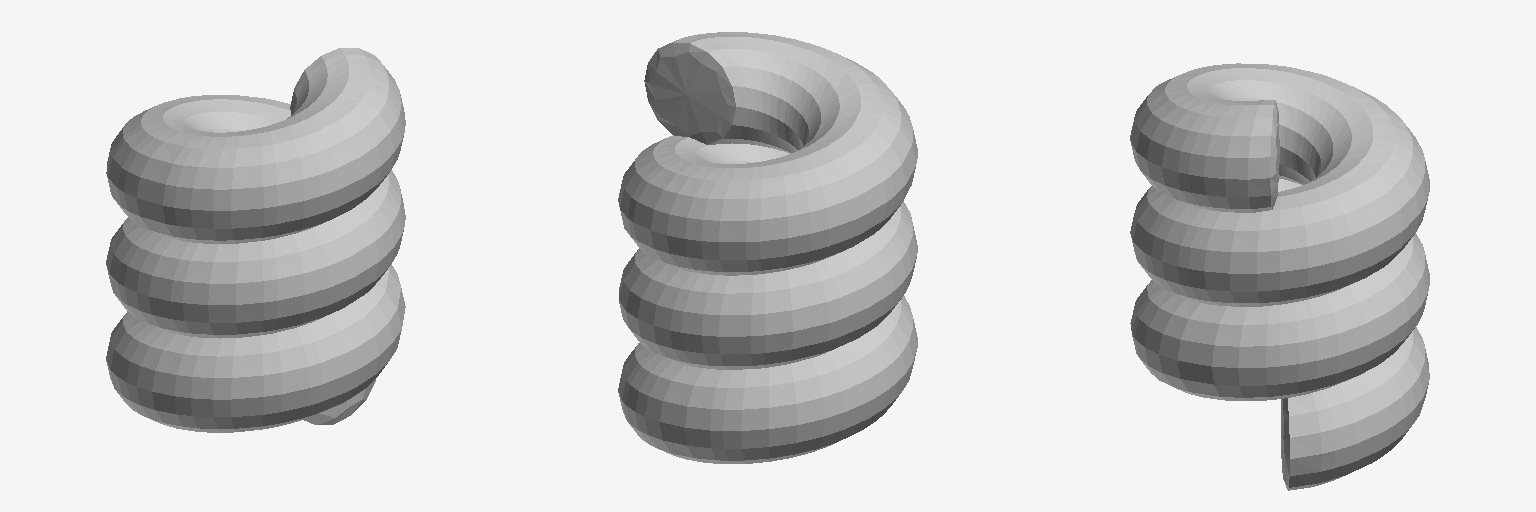
The model's file is helix_1.obj.
The picture shows the model from 3 angles: view 1: azimuth 30°, elevation 25°; view 2: azimuth 150°, elevation 25°; view 3: azimuth 270°, elevation 25°; orthographic projection.
Parts seen in each view (by area): view 1: helix_1:pHelix1; view 2: helix_1:pHelix1; view 3: helix_1:pHelix1.
Boxes of the visible parts, box(x1,y1,x2,y2) form: helix_1:pHelix1: box(106, 48, 405, 432); helix_1:pHelix1: box(618, 32, 917, 463); helix_1:pHelix1: box(1130, 63, 1429, 490).
Bounding box in the file's own units: 1.92 × 2.7 × 1.92.